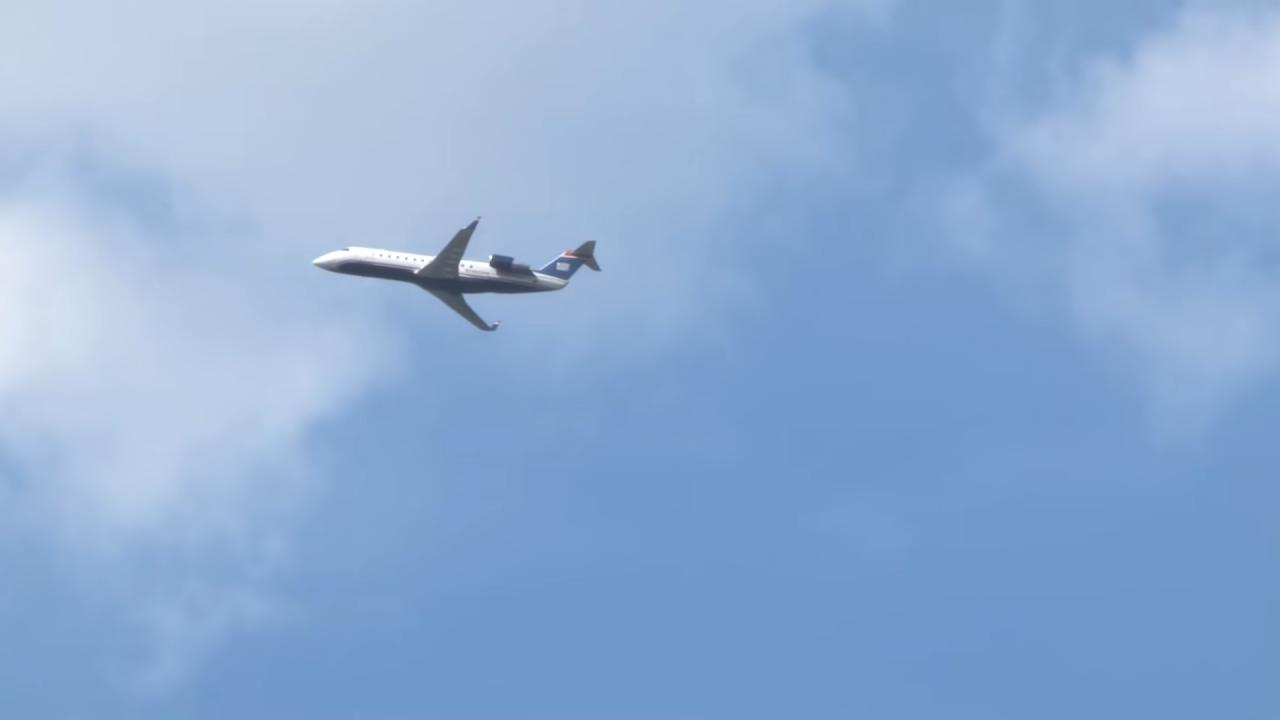Airplane: (300, 210, 626, 342)
